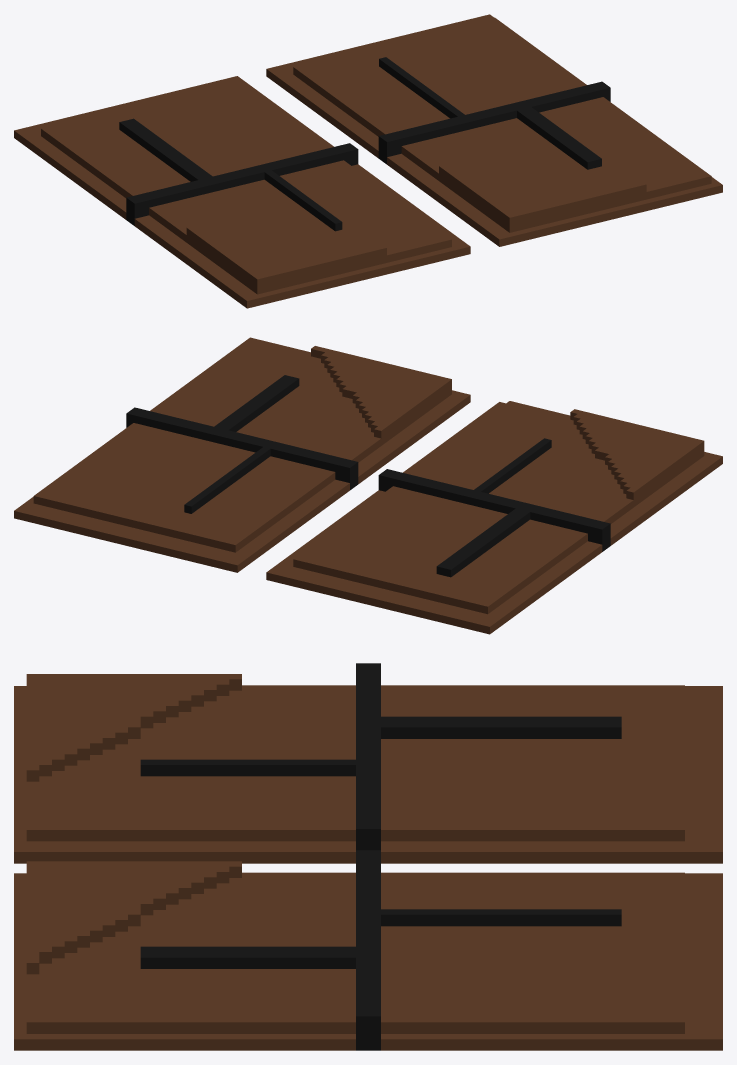
Rendered from footrags_leather.glb.
The picture shows the model from 3 angles, top to bottom: view 1: azimuth 30°, elevation 25°; view 2: azimuth 150°, elevation 25°; view 3: azimuth 270°, elevation 25°; orthographic projection. The views are drawn at different scales.
Parts seen in each view (by area): view 1: footrags_leather:compound; view 2: footrags_leather:compound; view 3: footrags_leather:compound.
Boxes of the visible parts, <box> form: footrags_leather:compound: <box>14,14,722,308</box>; footrags_leather:compound: <box>14,337,722,634</box>; footrags_leather:compound: <box>14,663,722,1050</box>.
Size of the model in its own units: 0.264 by 0.012 by 0.224.
